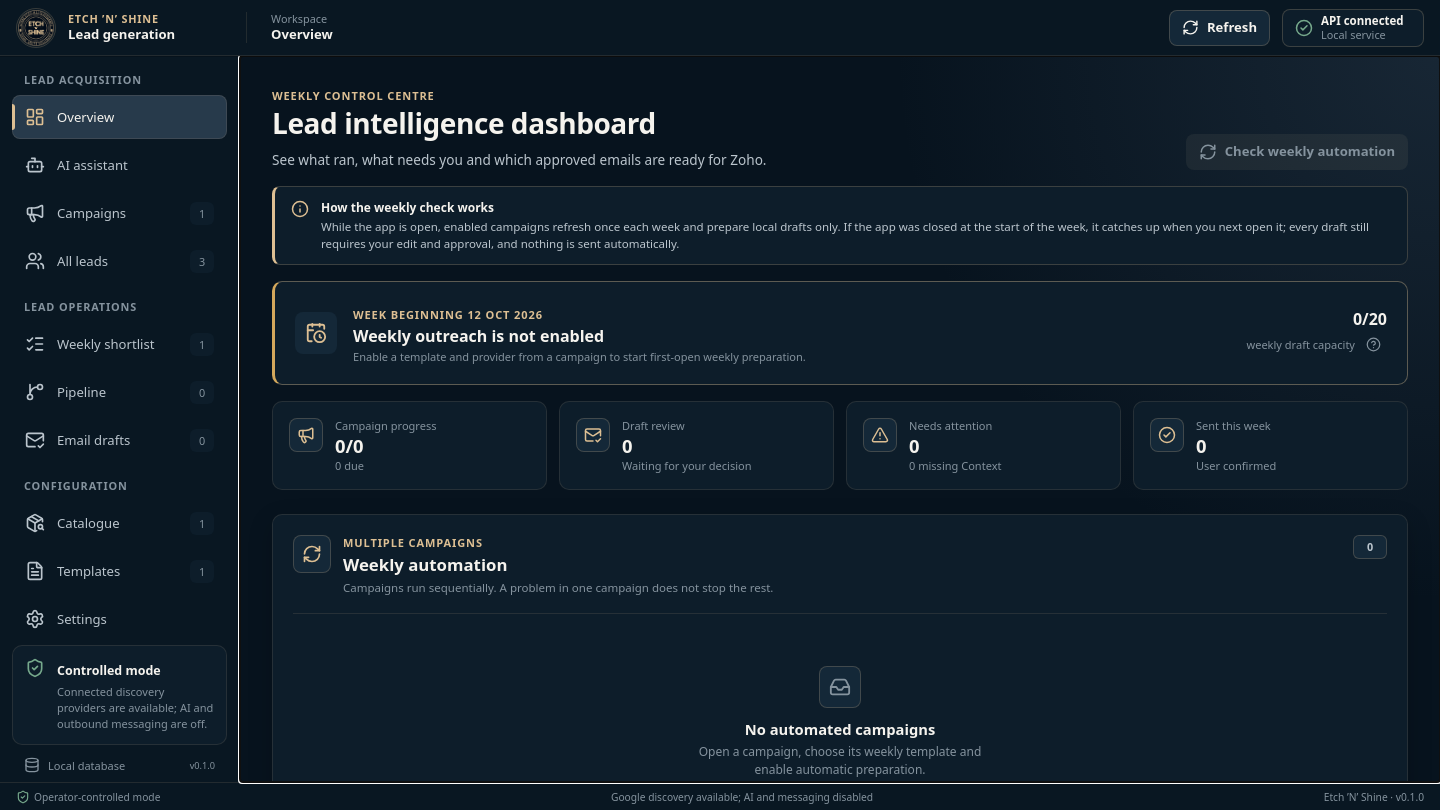
Test: local operating workbench › shows and filters leads by their discovery source
Expected: the text "API connected" is shown, [1321,14,1404,28]
Click the link "All leads 3" at [83, 261], box [25,250,214,272]
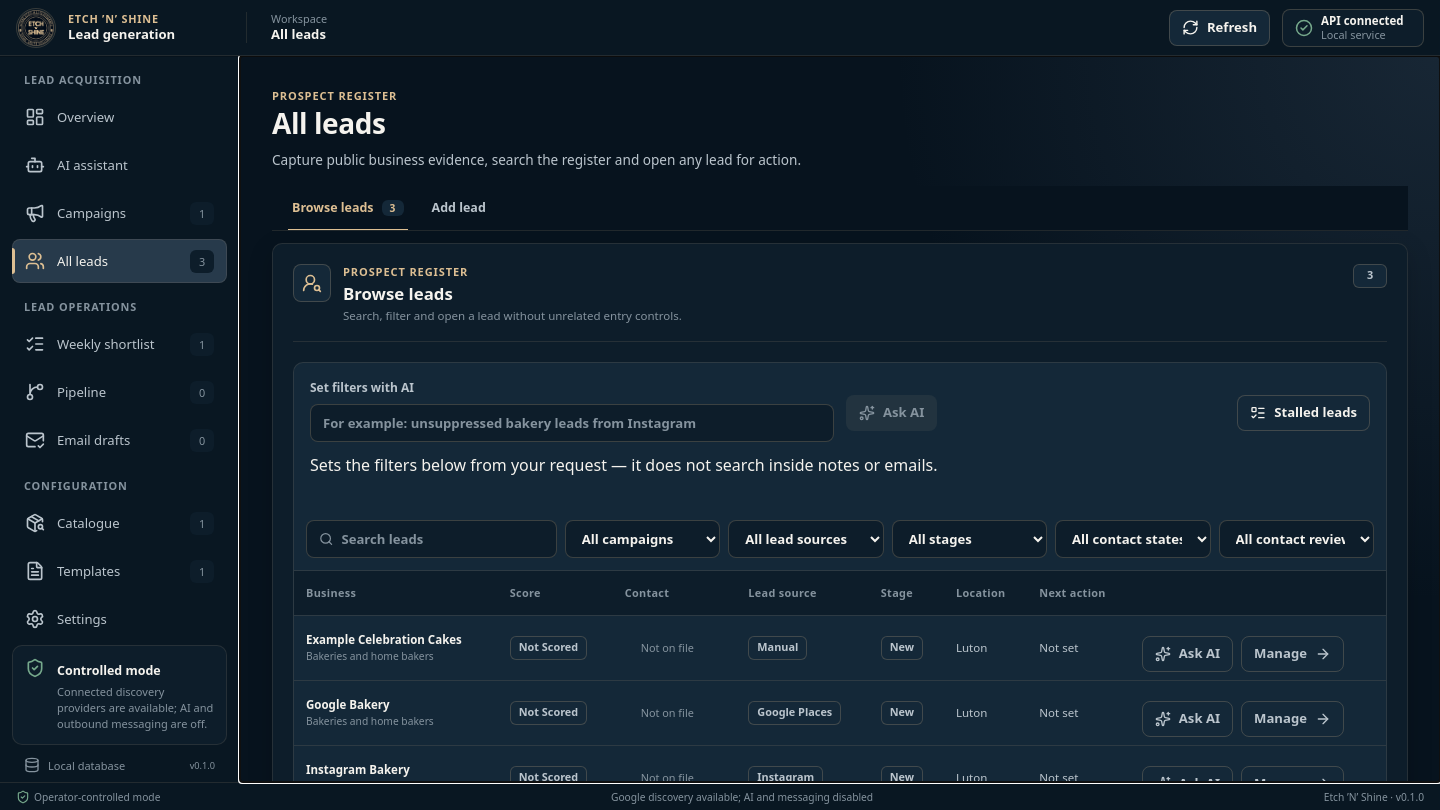
Expected: the text "Google Bakery" is shown, [306,697,390,712]
Expected: the text "Instagram Bakery" is shown, [306,762,410,777]
Expected: the column heading "Lead source" is shown, [736,571,869,615]
Select "Instagram" in the 2nd dropdown named "Filter by lead source" at [806, 539], box [728,520,884,558]
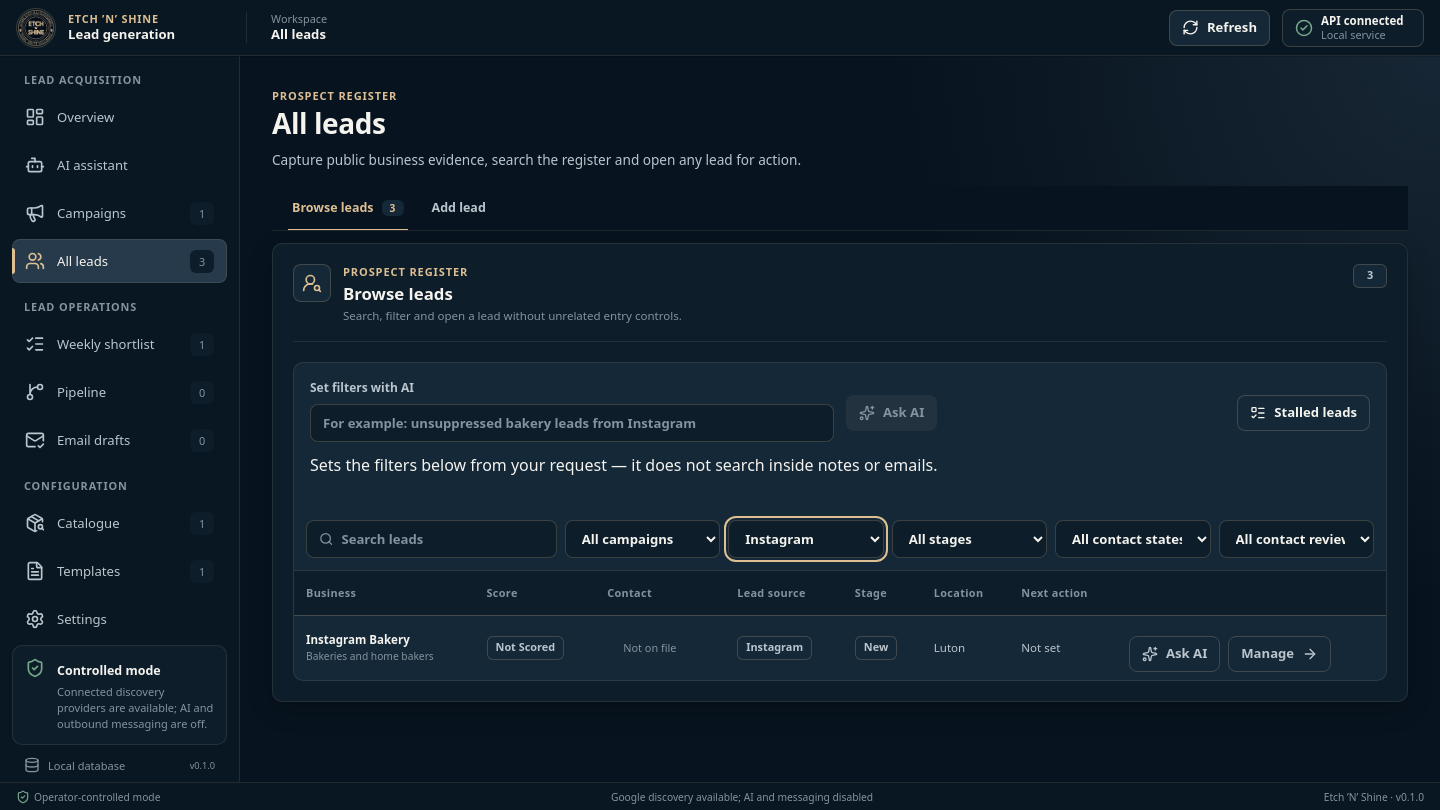
Expected: the text "Instagram Bakery" is shown, [306,632,410,647]
Expected: the text "Google Bakery" is gone
Expected: the text "Example Celebration Cakes" is gone
